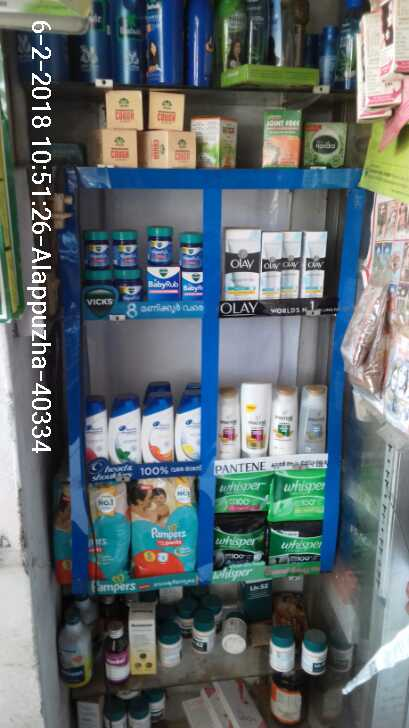vicks: (79, 223, 213, 306)
